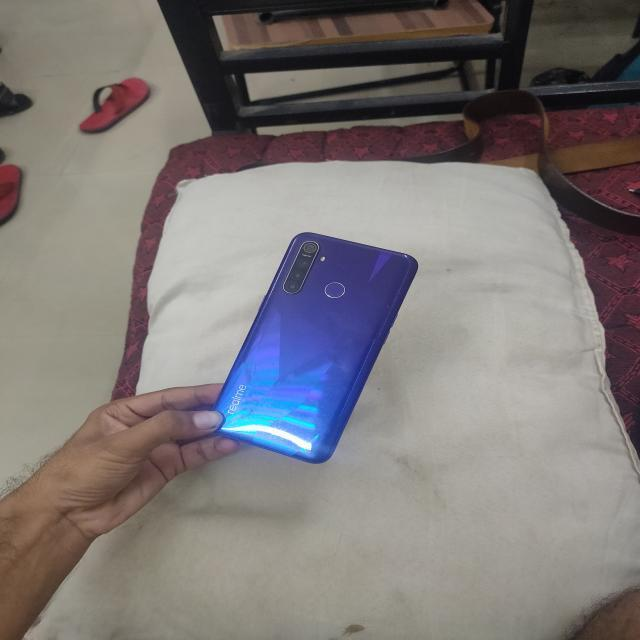Phone: (199, 231, 422, 465)
